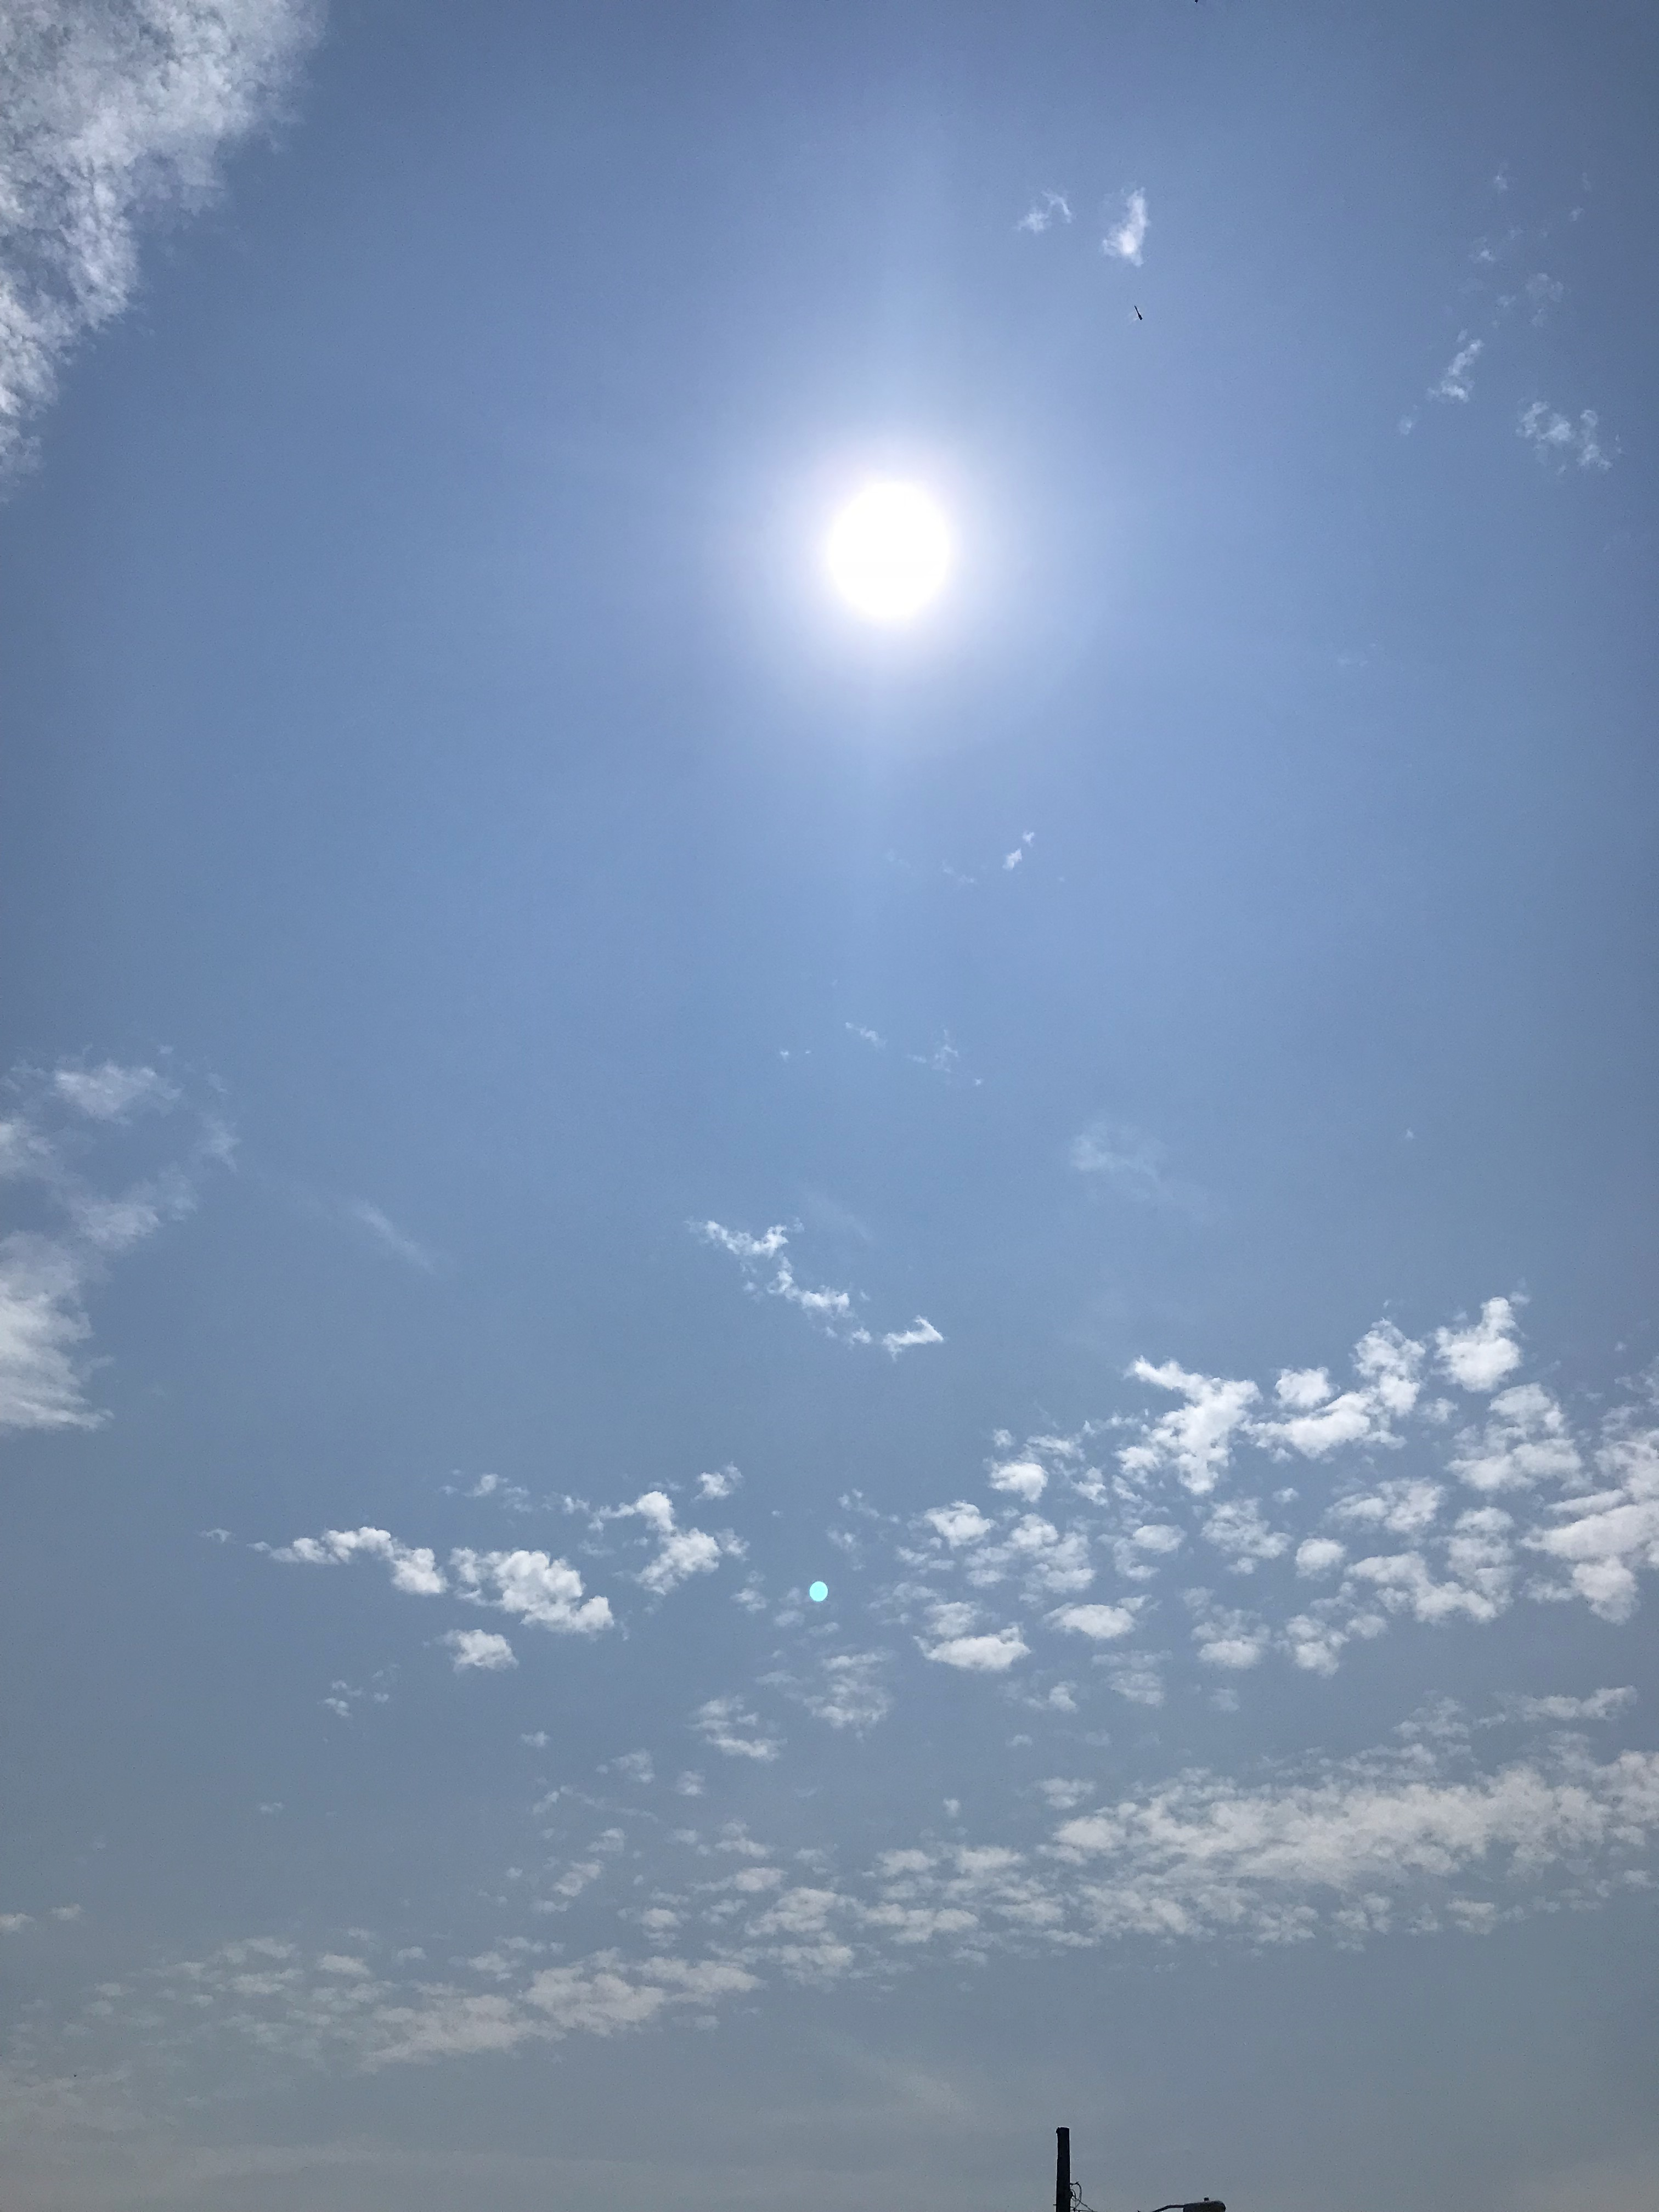flare: (807, 1578, 831, 1604)
